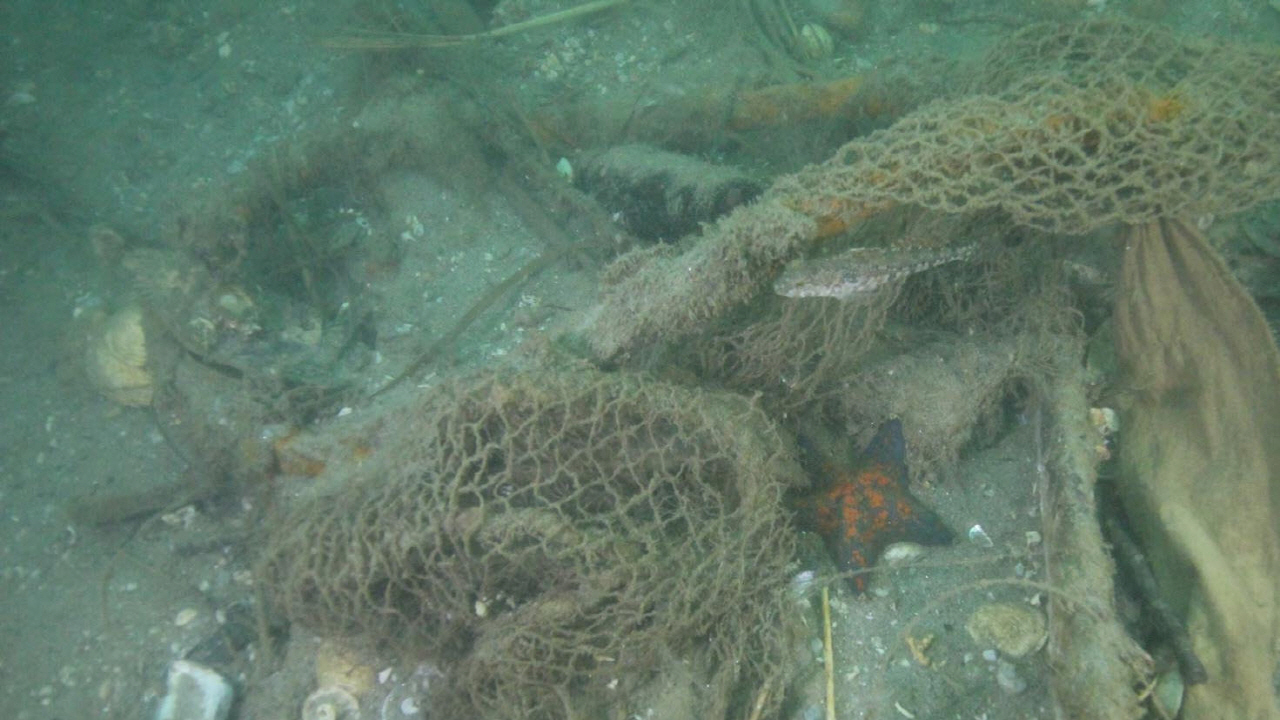fish net: (252, 16, 1280, 720)
